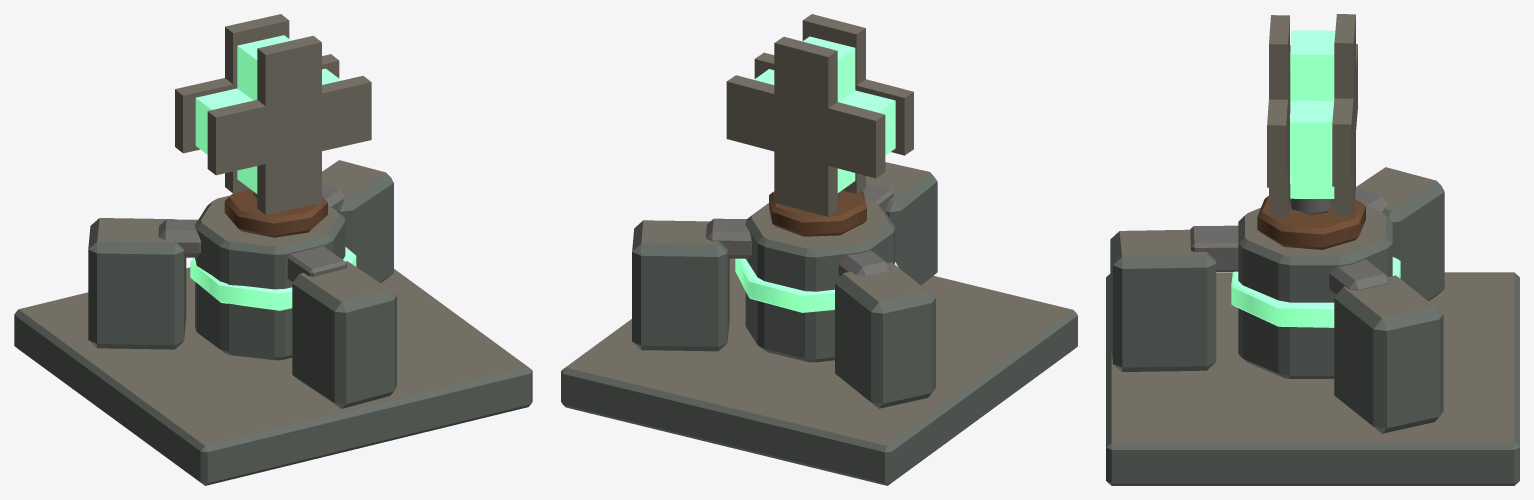
Rendered from R4X_RepairTurretDeployer_LOD1.fbx.
The picture shows the model from 3 angles, left to right: view 1: azimuth 30°, elevation 25°; view 2: azimuth 150°, elevation 25°; view 3: azimuth 270°, elevation 25°; orthographic projection. The views are drawn at different scales.
Parts seen in each view (by area): view 1: R4X_RepairTurretDeployer_LOD1; view 2: R4X_RepairTurretDeployer_LOD1; view 3: R4X_RepairTurretDeployer_LOD1.
Boxes of the visible parts, bbox=[...] form: R4X_RepairTurretDeployer_LOD1: bbox=[14, 14, 532, 485]; R4X_RepairTurretDeployer_LOD1: bbox=[561, 14, 1077, 485]; R4X_RepairTurretDeployer_LOD1: bbox=[1106, 14, 1519, 485].
Size of the model in its own units: 0.52 by 0.515 by 0.52.
